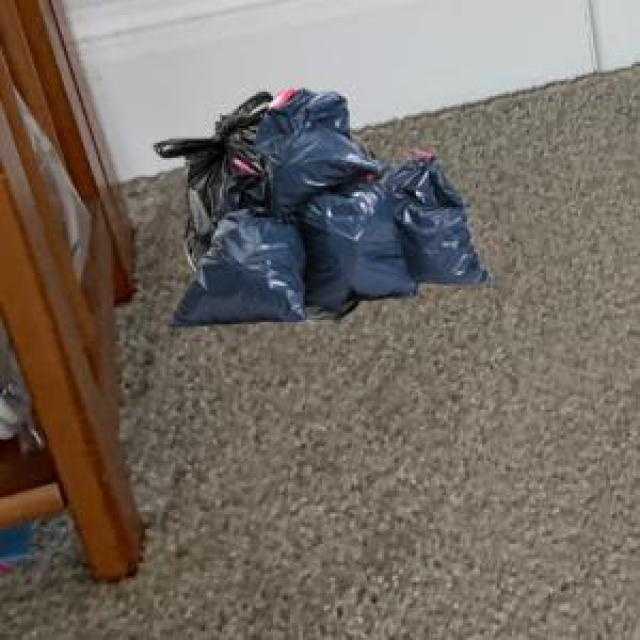Vinyl: (155, 89, 484, 324)
